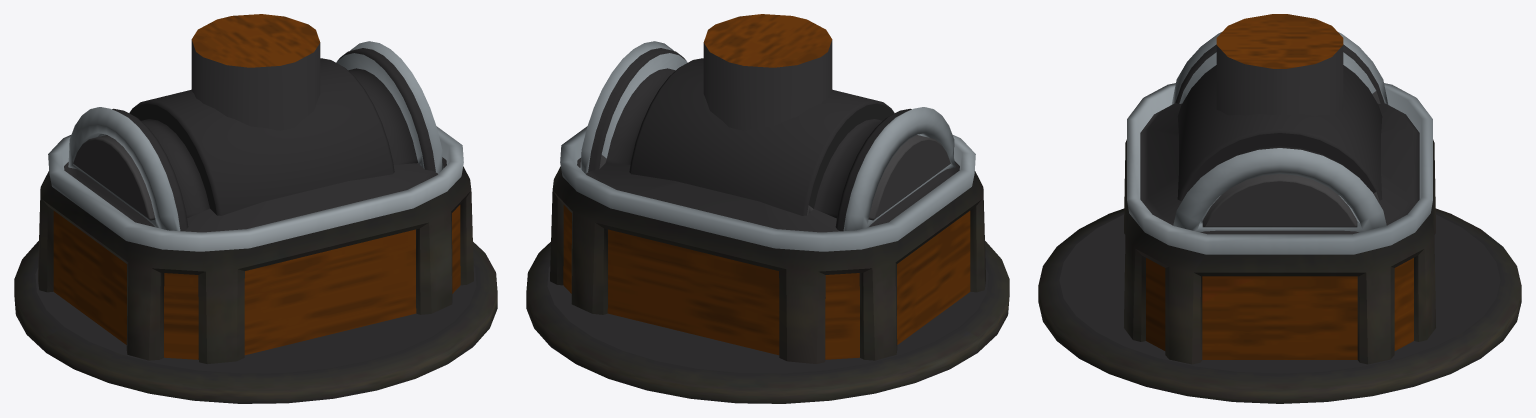
File: OS_Cavalry_Cannon_Horizontal.obj
3 renders of one model, left to right at view 1: azimuth 30°, elevation 25°; view 2: azimuth 150°, elevation 25°; view 3: azimuth 270°, elevation 25°, orthographic.
Parts seen in each view (by area): view 1: Cube.002; view 2: Cube.002; view 3: Cube.002.
Part boxes in pixels (<box>): Cube.002: <box>14,14,497,403</box>; Cube.002: <box>526,14,1009,403</box>; Cube.002: <box>1038,14,1521,403</box>.
Bounding box in the file's own units: 0.7252 × 0.4311 × 0.7252.
